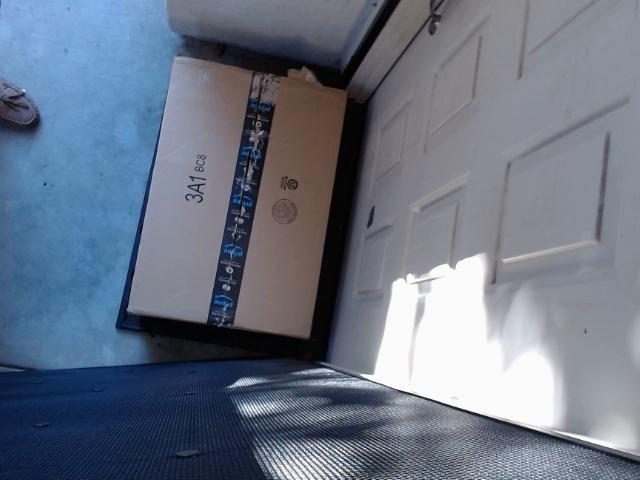box: (126, 61, 347, 346)
